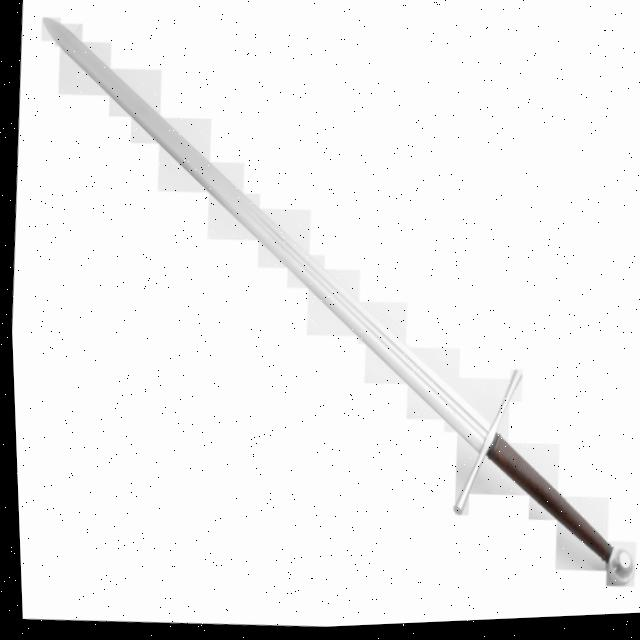knife: (0, 0, 640, 618)
